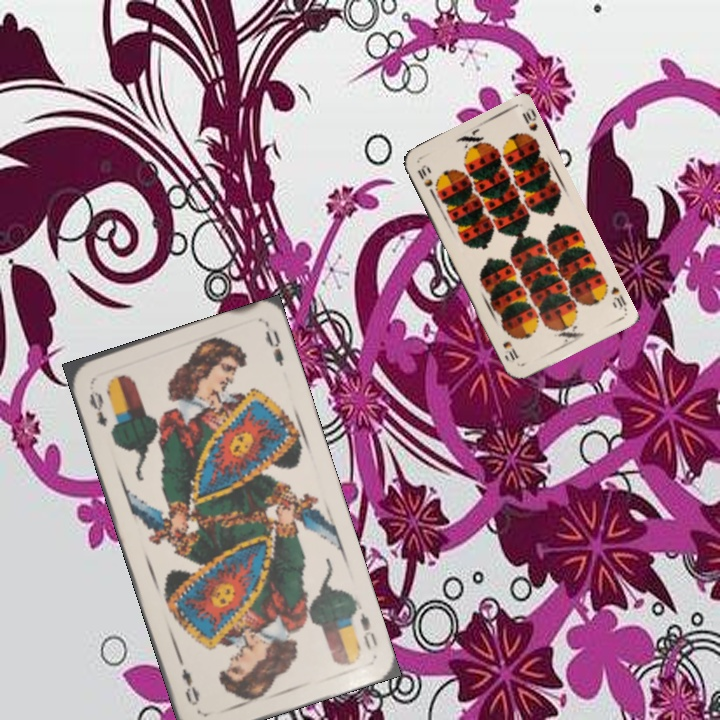EO: (85, 386, 110, 430), (356, 608, 380, 653)
S10: (413, 161, 437, 198), (607, 282, 629, 313)
